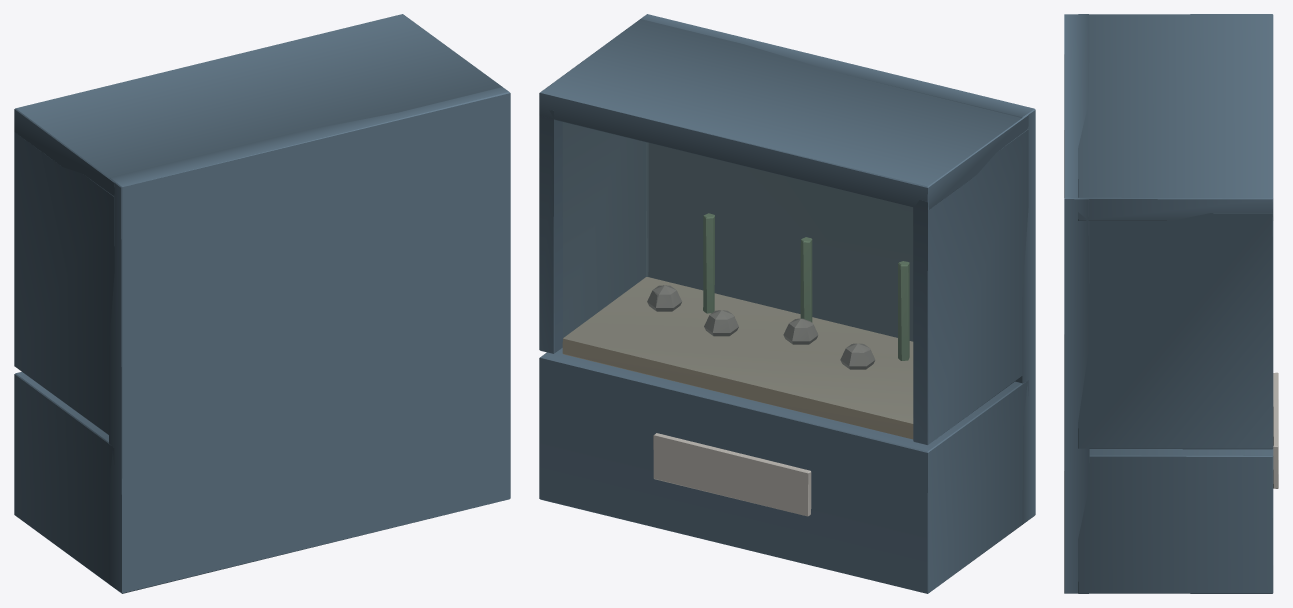
Rendered from museum_tank_wall_low.glb.
3 renders of one model, left to right at view 1: azimuth 30°, elevation 25°; view 2: azimuth 150°, elevation 25°; view 3: azimuth 270°, elevation 25°, orthographic. The views are drawn at different scales.
Bounding box in the file's own units: 2 × 2 × 0.9818.
